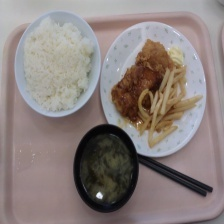rice: (21, 17, 94, 113)
